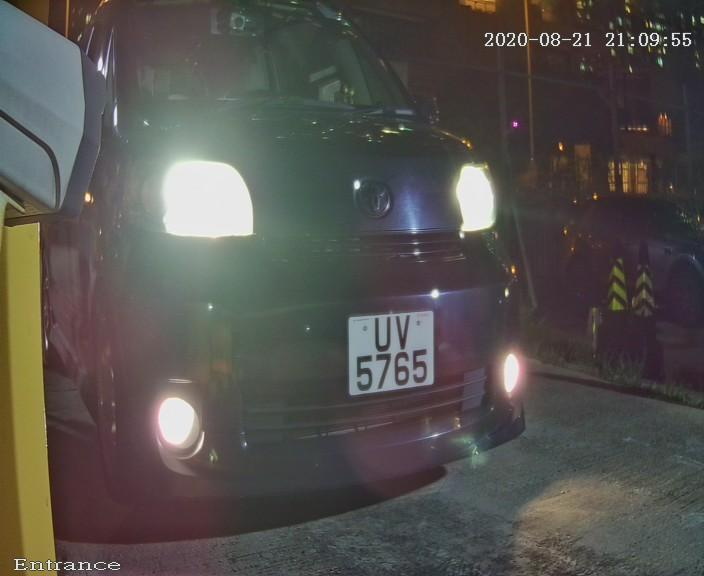License Plate: (334, 296, 444, 409)
